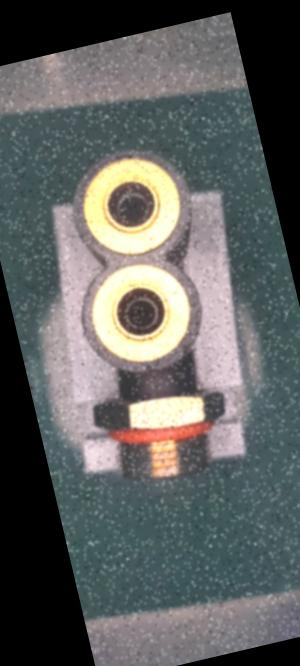bump: (137, 356, 164, 377), (176, 341, 198, 361)
white mark: (147, 385, 161, 400)
